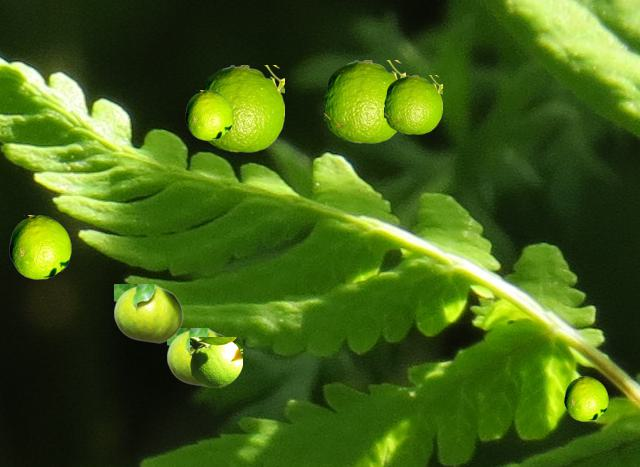dalandan: (202, 65, 283, 151), (324, 60, 404, 142), (114, 284, 182, 342), (9, 215, 70, 278), (167, 328, 225, 386), (384, 75, 441, 133), (190, 337, 241, 386), (185, 90, 232, 139), (564, 376, 607, 420)
